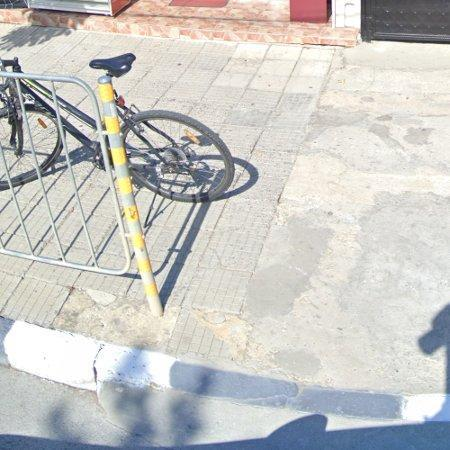bicycles: (115, 93, 234, 202), (0, 78, 63, 190), (63, 119, 98, 158), (56, 98, 96, 130), (90, 53, 136, 77)
